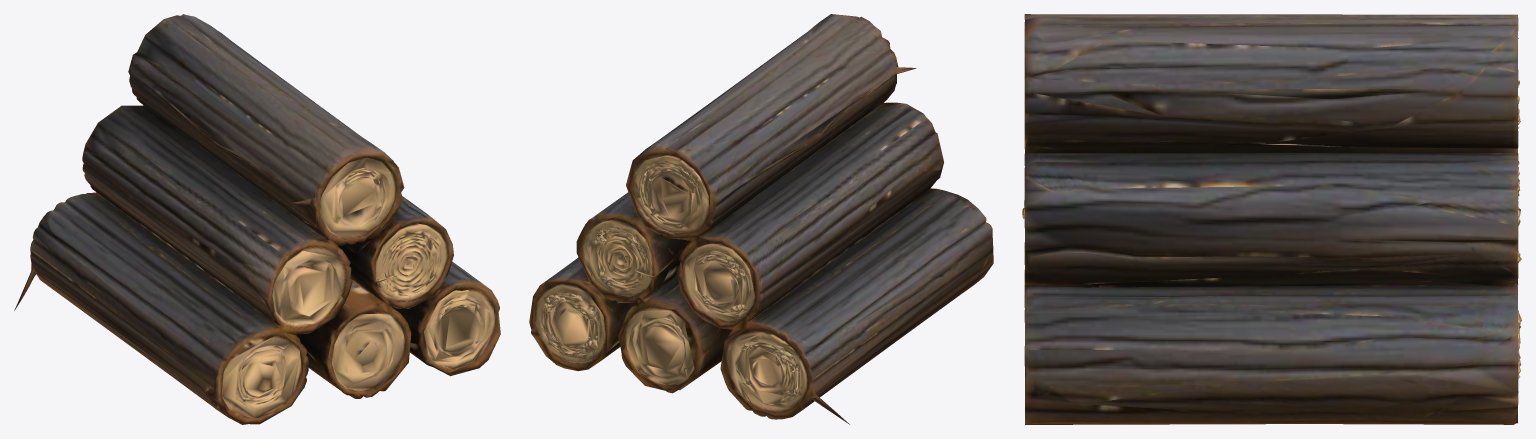
Rendered from log_pile.glb.
The picture shows the model from 3 angles, left to right: view 1: azimuth 30°, elevation 25°; view 2: azimuth 150°, elevation 25°; view 3: azimuth 270°, elevation 25°; orthographic projection. The views are drawn at different scales.
Parts seen in each view (by area): view 1: node_0; view 2: node_0; view 3: node_0.
Part boxes in pixels (<box>): node_0: <box>14,14,500,424</box>; node_0: <box>529,14,993,424</box>; node_0: <box>1022,14,1521,424</box>.
Bounding box in the file's own units: 0.7753 × 0.5885 × 0.8038.
Materials: 1 (1 with a texture image).
